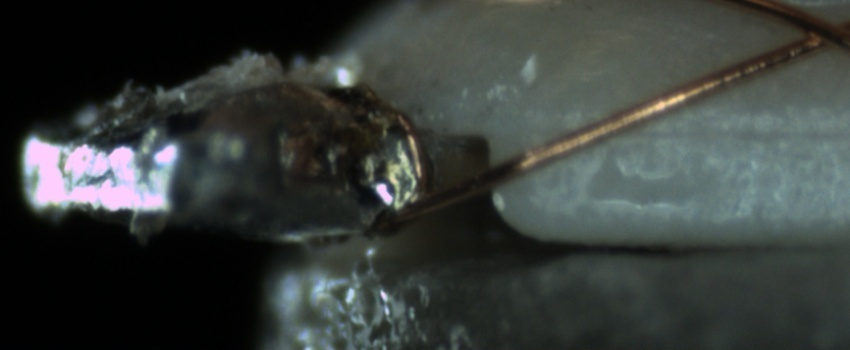CL: (776, 5, 849, 58)
DL: (564, 94, 847, 166)
TE: (373, 89, 429, 192)
